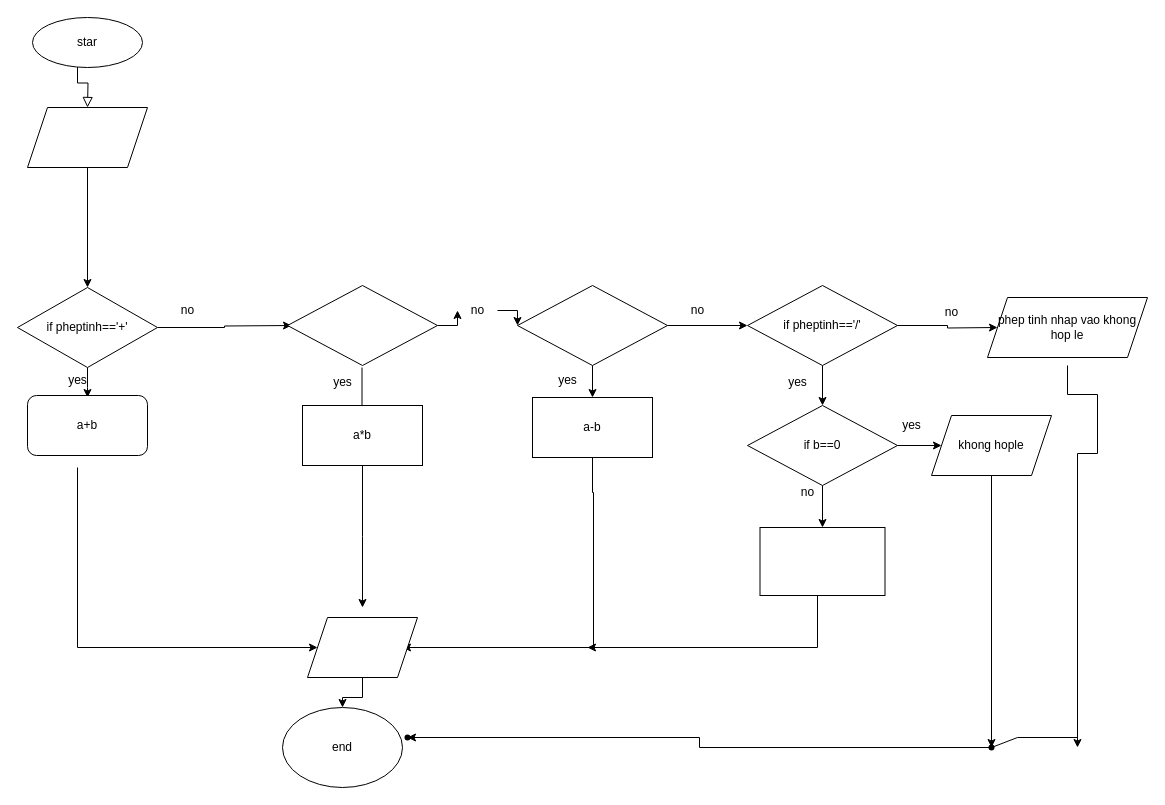
Image size: 1165x805. Some labels were removed from this diagram. Each missing label, with the centre of its shape:
a/b: pixel 822 561
if pheptinh=='*': pixel 362 325
if pheptinh=='-': pixel 592 325
input so1 so2 pheptinh: pixel 87 137
print: pixel 362 647
